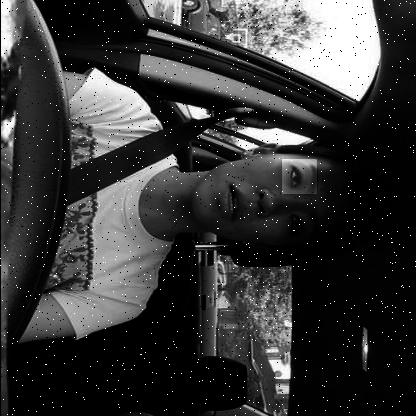seatbelt: (67, 129, 388, 269)
